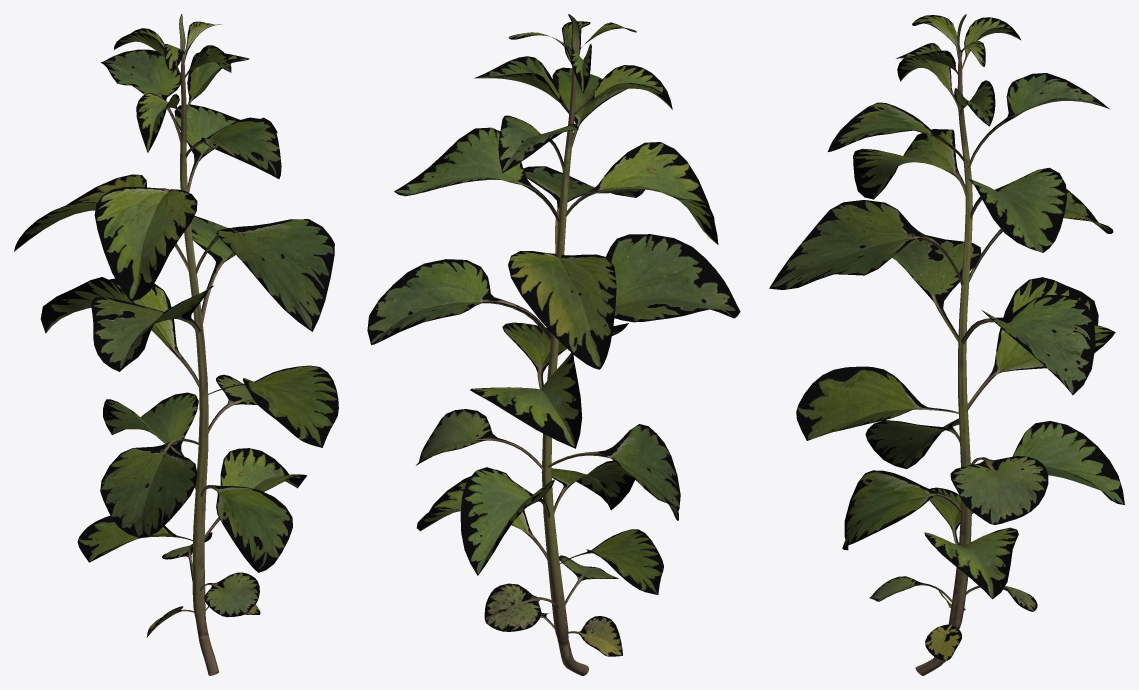
File: nettle_plant_tall_b.gltf
3 views of the same model, side by side, from view 1: azimuth 30°, elevation 25°; view 2: azimuth 150°, elevation 25°; view 3: azimuth 270°, elevation 25° (orthographic). The views are drawn at different scales.
Visible parts, largest first — view 1: nettle_plant_tall_b_LOD0; view 2: nettle_plant_tall_b_LOD0; view 3: nettle_plant_tall_b_LOD0.
Part boxes in pixels (x1,y1,x2,y2): nettle_plant_tall_b_LOD0: (14,14,338,675); nettle_plant_tall_b_LOD0: (367,14,740,675); nettle_plant_tall_b_LOD0: (769,14,1124,675).
Bounding box in the file's own units: 0.0823 × 0.1927 × 0.0947.
Materials: 1 (1 with a texture image).
